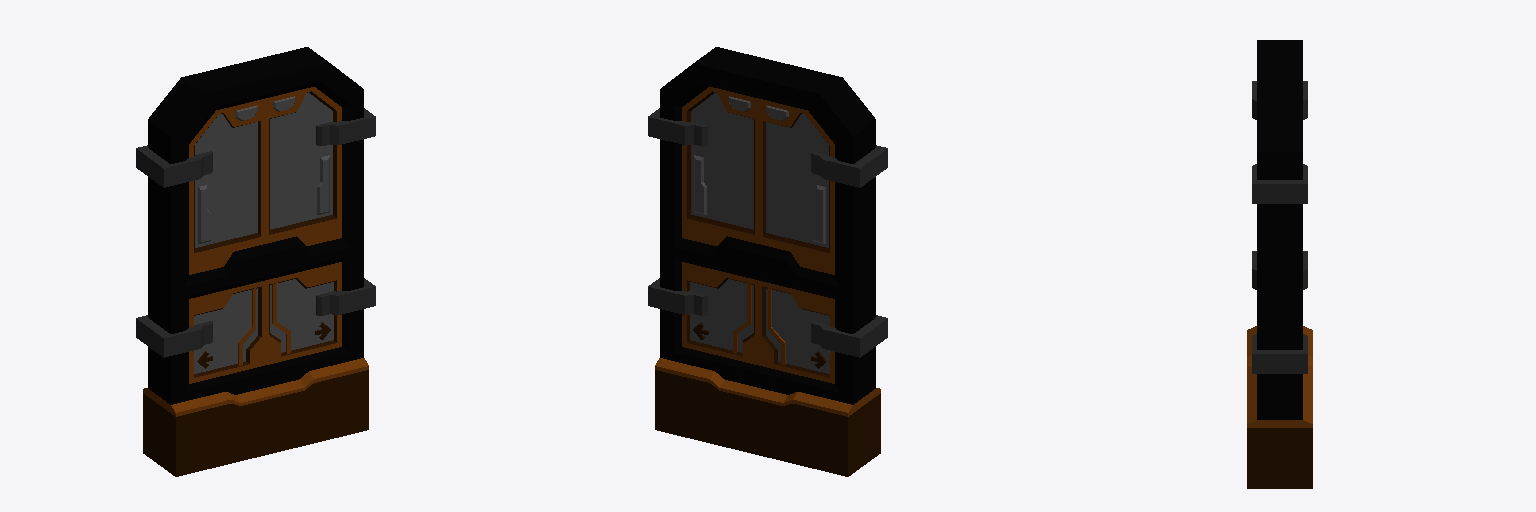
File: Door_Single.obj
The picture shows the model from 3 angles: view 1: azimuth 30°, elevation 25°; view 2: azimuth 150°, elevation 25°; view 3: azimuth 270°, elevation 25°; orthographic projection.
Parts seen in each view (by area): view 1: Door_Single_Plane.024; view 2: Door_Single_Plane.024; view 3: Door_Single_Plane.024.
Boxes of the visible parts, x1,y1,x2,y2 form: Door_Single_Plane.024: [136, 47, 375, 476]; Door_Single_Plane.024: [648, 47, 887, 476]; Door_Single_Plane.024: [1247, 40, 1312, 488].
Size of the model in its own units: 1.67 by 2.79 by 0.4514.